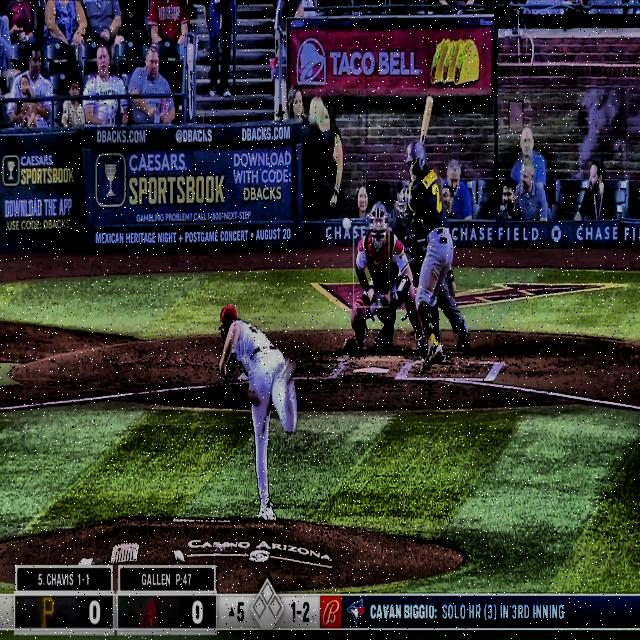baseball: (342, 217, 351, 231)
